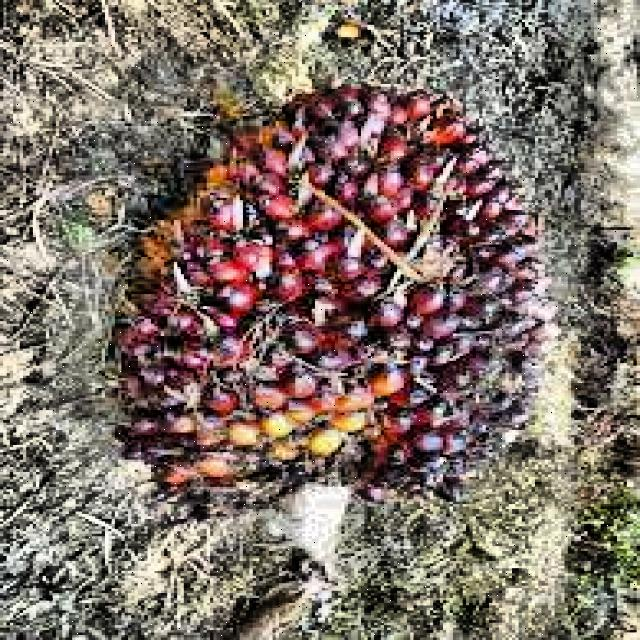FFB: (126, 84, 536, 509)
